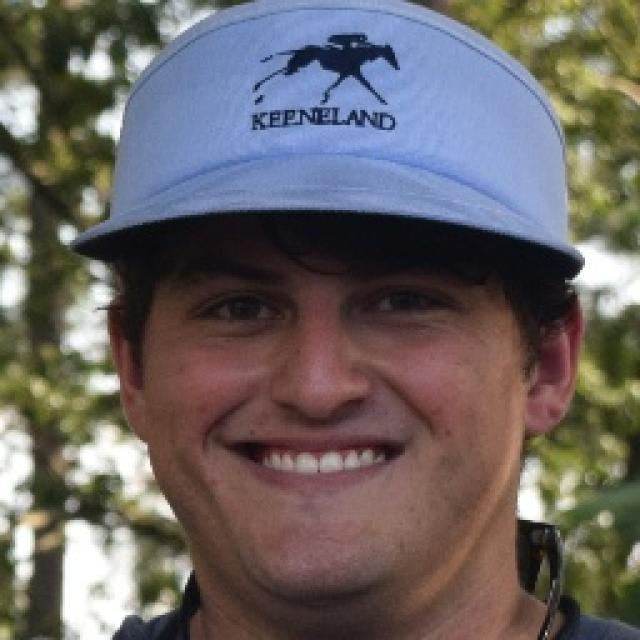earlobe: (526, 383, 568, 438), (119, 386, 148, 443)
eye: (196, 294, 283, 325), (362, 290, 457, 316)
nose: (272, 399, 370, 433)
wholeear: (525, 292, 582, 438), (105, 296, 149, 442)
